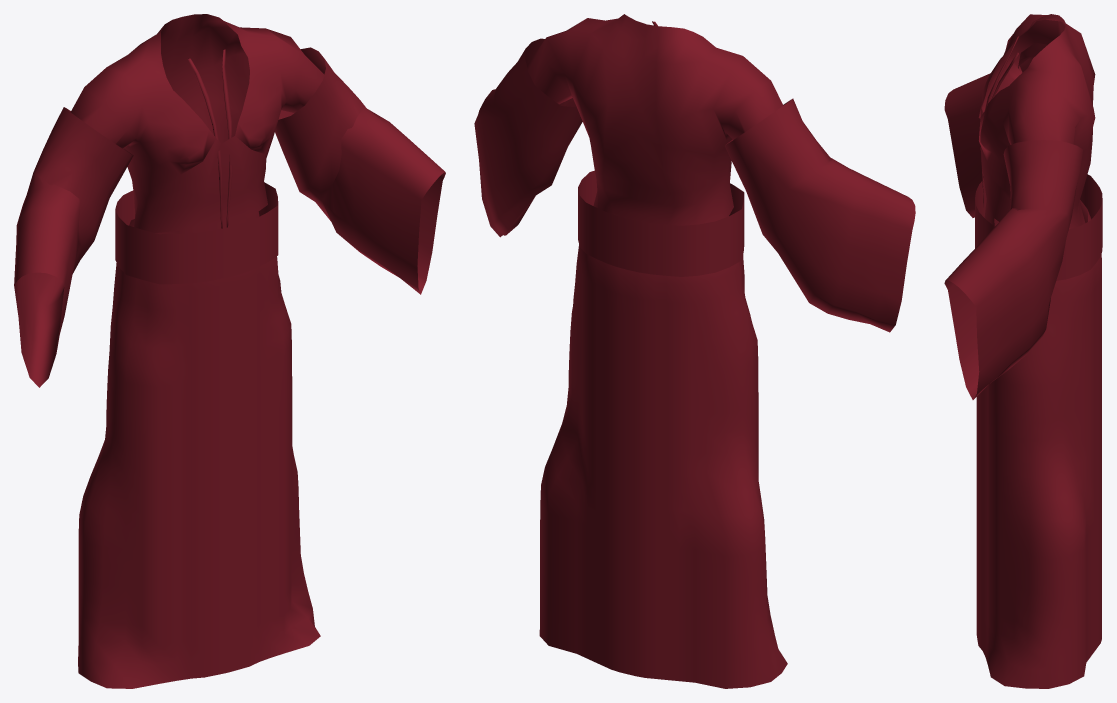
File: kimono.glb
3 renders of one model, left to right at view 1: azimuth 30°, elevation 25°; view 2: azimuth 150°, elevation 25°; view 3: azimuth 270°, elevation 25°, orthographic. The views are drawn at different scales.
Visible parts, largest first — view 1: kimono; view 2: kimono; view 3: kimono.
Part boxes in pixels (x1,y1,x2,y2): kimono: (14,14,445,688); kimono: (474,14,915,688); kimono: (944,14,1102,688).
Size of the model in its own units: 1.07 by 1.49 by 0.35.
